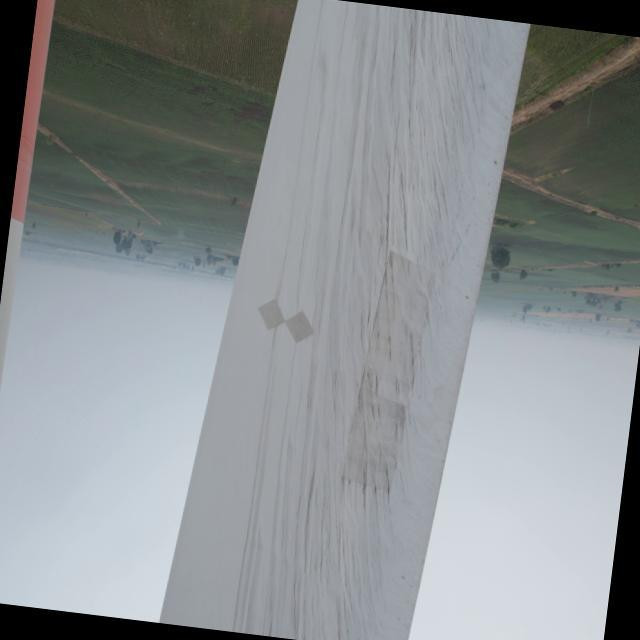Dirt: (235, 12, 518, 640)
